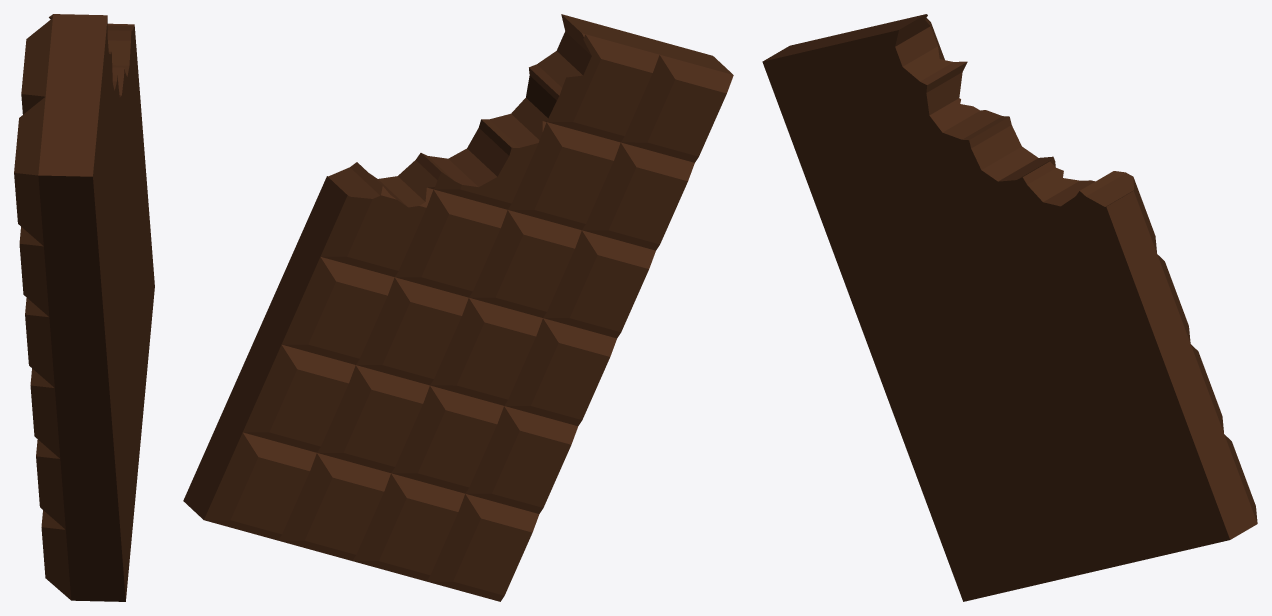
The model's file is Good Food 4.fbx.
3 views of the same model, side by side, from view 1: azimuth 30°, elevation 25°; view 2: azimuth 150°, elevation 25°; view 3: azimuth 270°, elevation 25° (orthographic). The views are drawn at different scales.
Visible parts, largest first — view 1: Good Food_004; view 2: Good Food_004; view 3: Good Food_004.
Boxes of the visible parts, left/top/right/bottom form: Good Food_004: left=14, top=14, right=154, bottom=601; Good Food_004: left=183, top=14, right=733, bottom=601; Good Food_004: left=762, top=14, right=1257, bottom=601.
Bounding box in the file's own units: 19.25 × 30.65 × 25.05.
